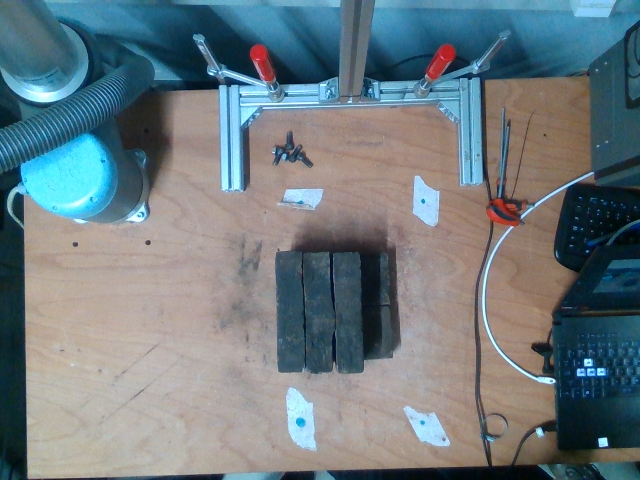brick-side: (335, 251, 362, 374), (277, 251, 303, 373), (305, 253, 329, 374)
